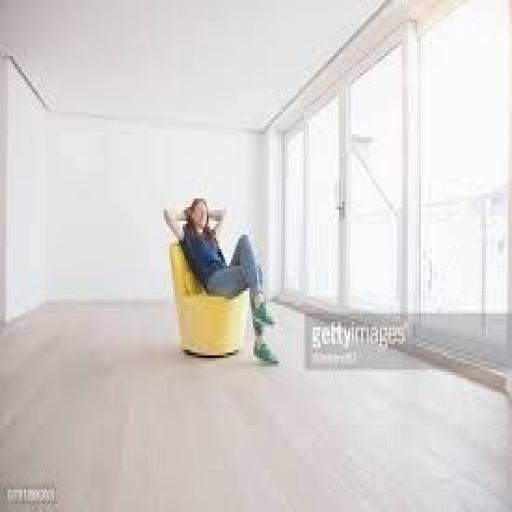sitting: (162, 193, 281, 367)
